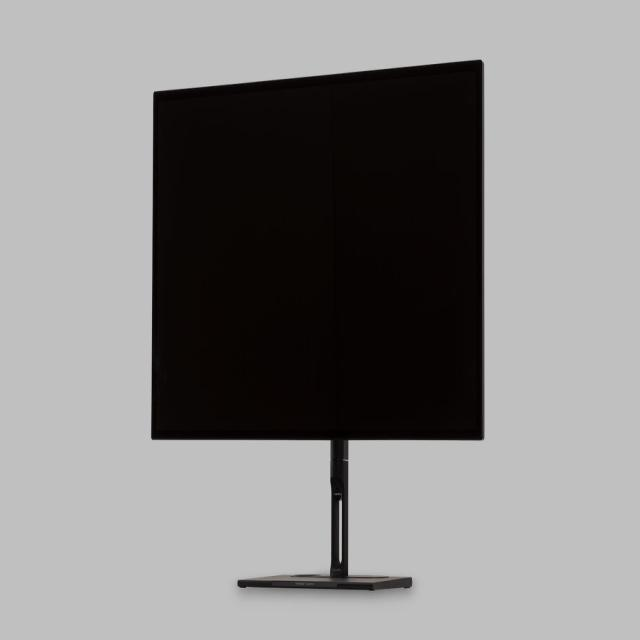monitor: (150, 60, 484, 592)
